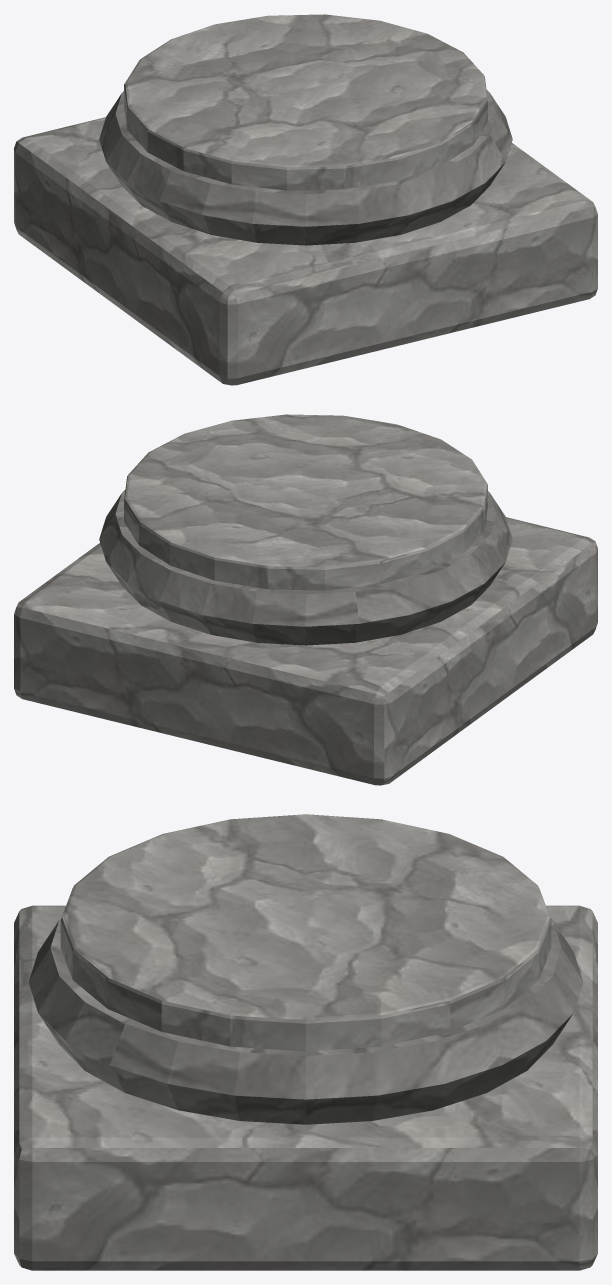
File: column_base__copper_ingot.glb
3 views of the same model, one above another, from view 1: azimuth 30°, elevation 25°; view 2: azimuth 150°, elevation 25°; view 3: azimuth 270°, elevation 25° (orthographic). The views are drawn at different scales.
Visible parts, largest first — view 1: model; view 2: model; view 3: model.
Part boxes in pixels (x1,y1,x2,y2): model: [14, 14, 597, 385]; model: [14, 414, 597, 785]; model: [14, 814, 597, 1270].
Bounding box in the file's own units: 0.8 × 0.36 × 0.8.
Materials: 2 (2 with a texture image).
